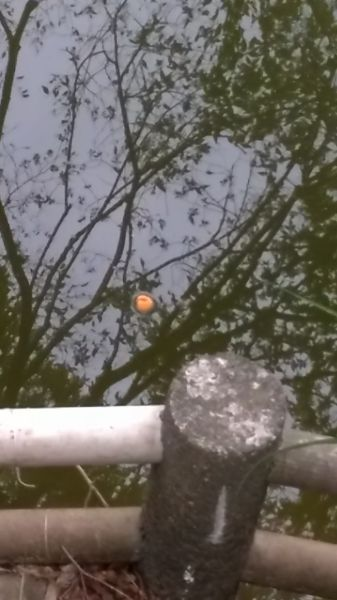eggs: (130, 290, 161, 319)
